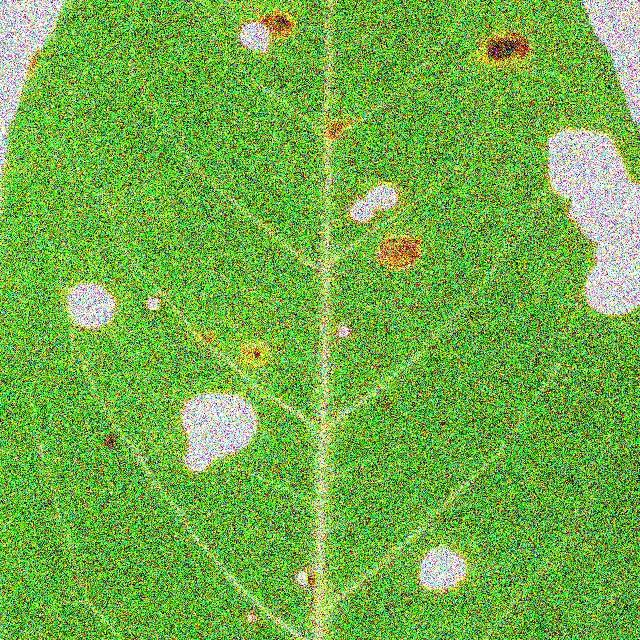shot_hole: (66, 1, 391, 640)
